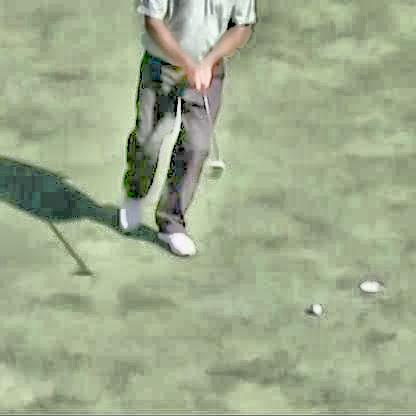golfball: (307, 301, 320, 312)
